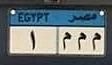1: (29, 29, 38, 52)
meem: (61, 31, 73, 53), (76, 31, 88, 51), (91, 30, 101, 53)
